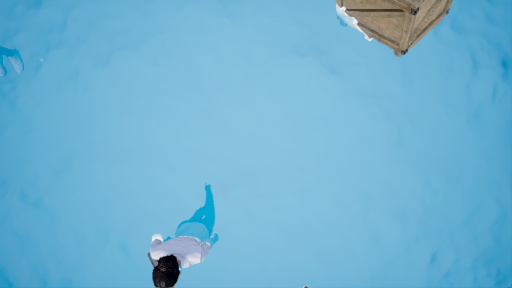person: (136, 179, 227, 288)
